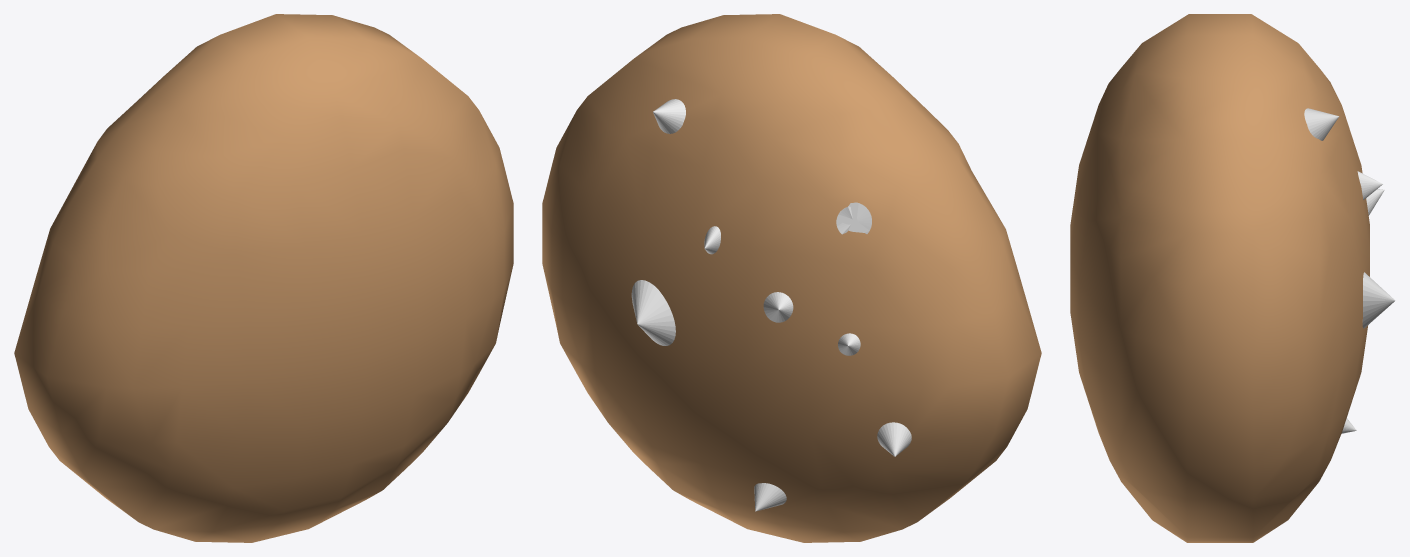
The model's file is cookie2.glb.
The picture shows the model from 3 angles, left to right: view 1: azimuth 30°, elevation 25°; view 2: azimuth 150°, elevation 25°; view 3: azimuth 270°, elevation 25°; orthographic projection.
Visible parts, largest first — view 1: Mball.001; view 2: Mball.001, Cone.003, Cone, Cone.008, Cone.002, Cone.005, Cone.009; view 3: Mball.001, Cone.003, Cone.002.
Part boxes in pixels (x1=…): Mball.001: x1=14, y1=14, x2=513, y2=542; Mball.001: x1=542, y1=14, x2=1041, y2=542; Cone.003: x1=631, y1=280, x2=675, y2=345; Cone: x1=836, y1=202, x2=871, y2=234; Cone.008: x1=877, y1=422, x2=911, y2=456; Cone.002: x1=653, y1=99, x2=685, y2=133; Cone.005: x1=763, y1=292, x2=793, y2=322; Cone.009: x1=754, y1=483, x2=786, y2=511; Mball.001: x1=1070, y1=14, x2=1369, y2=542; Cone.003: x1=1362, y1=272, x2=1395, y2=328; Cone.002: x1=1304, y1=108, x2=1339, y2=140.
Bounding box in the file's own units: 3.29 × 3.31 × 1.97.
